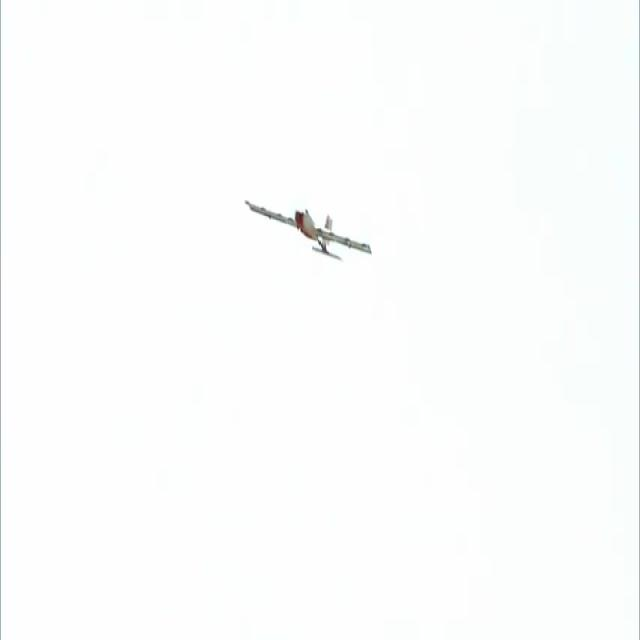iha: (242, 230, 372, 232)
